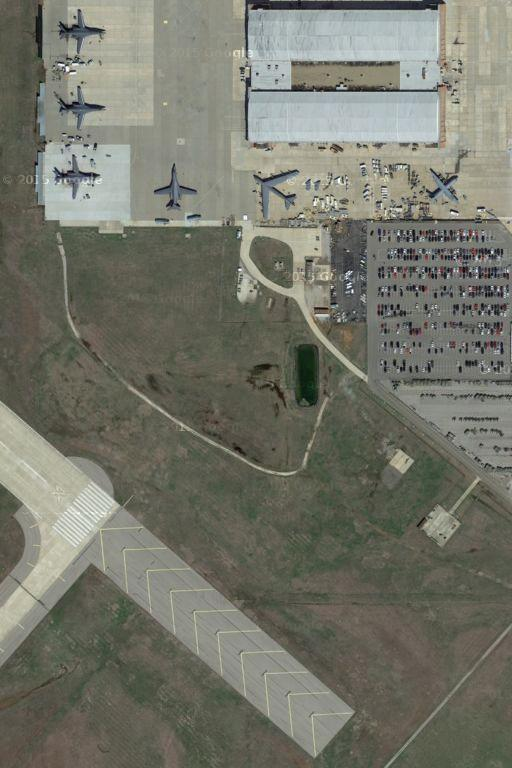B-1B: (49, 83, 110, 133), (53, 9, 111, 54), (150, 162, 197, 214), (51, 155, 102, 198)
B-52: (247, 167, 303, 218)
C-130: (418, 166, 462, 207)
